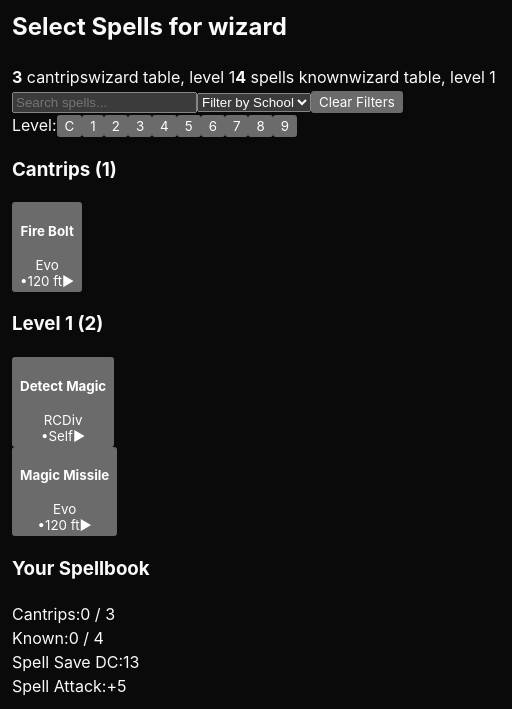
Test case: SpellSelectionStep › level filter › clicking level 1 shows only level-1 spells
The image size is (512, 709).
Expected: the heading "Magic Missile" is shown, x1=20 y1=467 x2=109 y2=483
Click the button "1" at [93, 126], box x1=82 y1=115 x2=104 y2=137
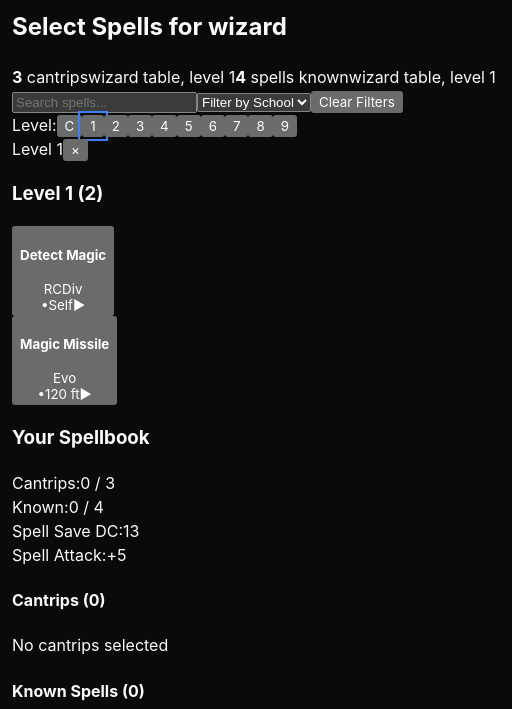
Expected: the heading "Magic Missile" is shown, x1=20 y1=336 x2=109 y2=352
Result: the button "Fire Bolt" is gone
